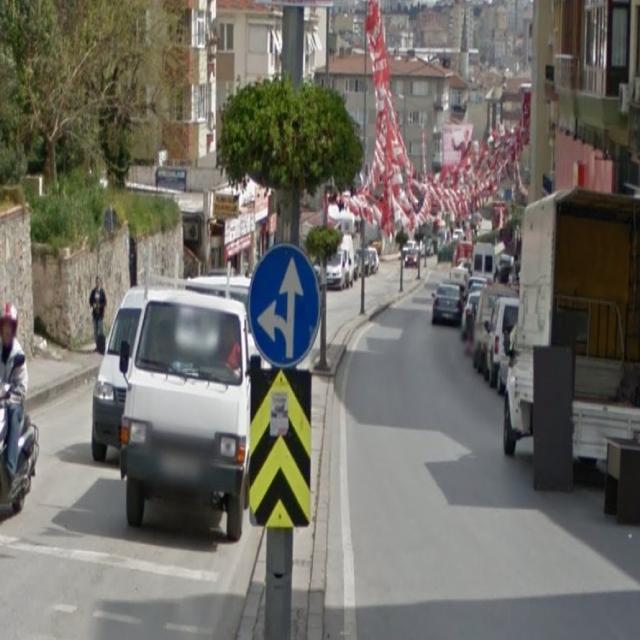ilerisol: (249, 245, 322, 366)
